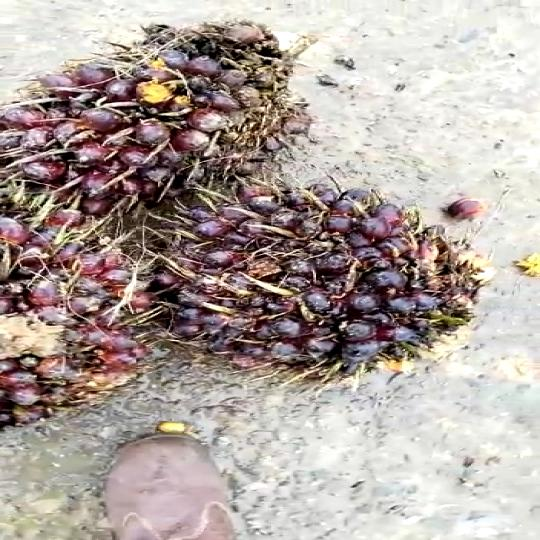kurang masak: (158, 192, 492, 384), (0, 9, 338, 198), (0, 175, 163, 444)
